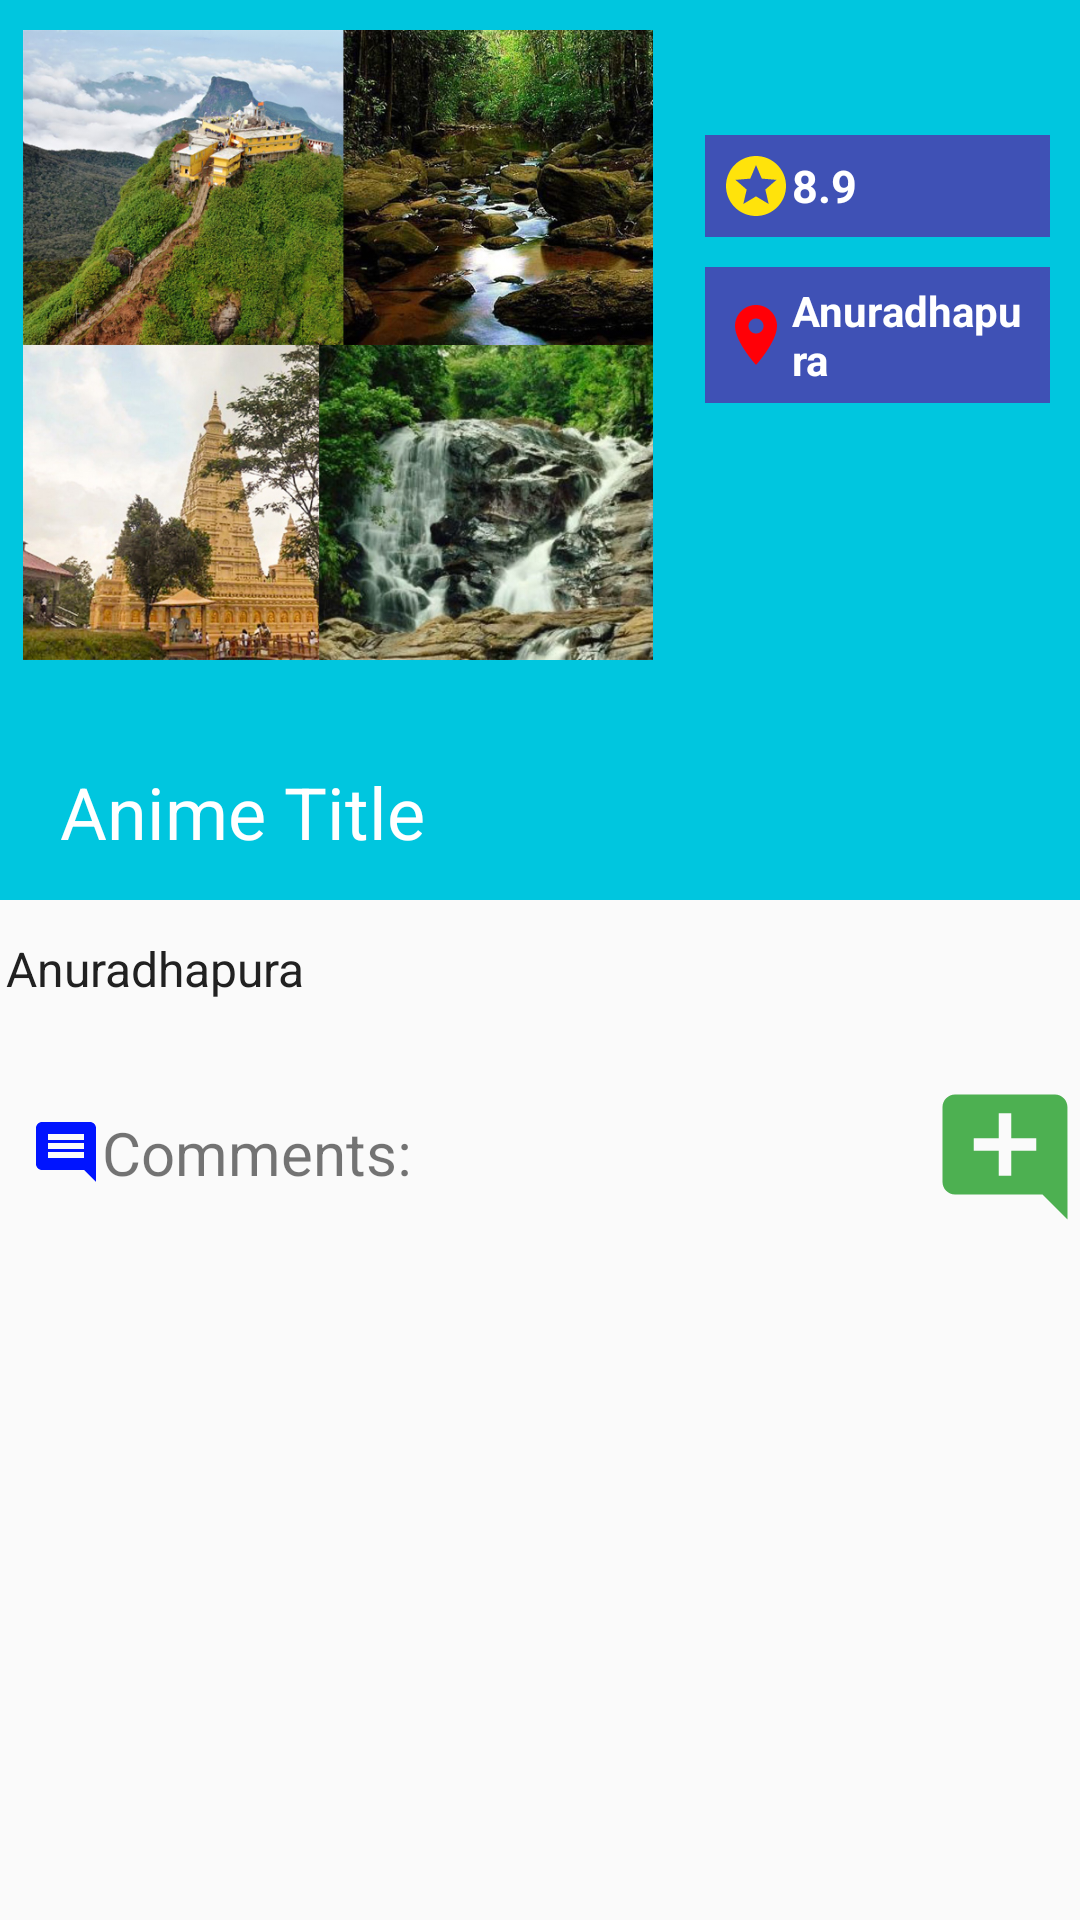

Named icons in this screenshot (1080 × 1920) and their centers, point (x, y):
add comment: point (1005, 1156)
